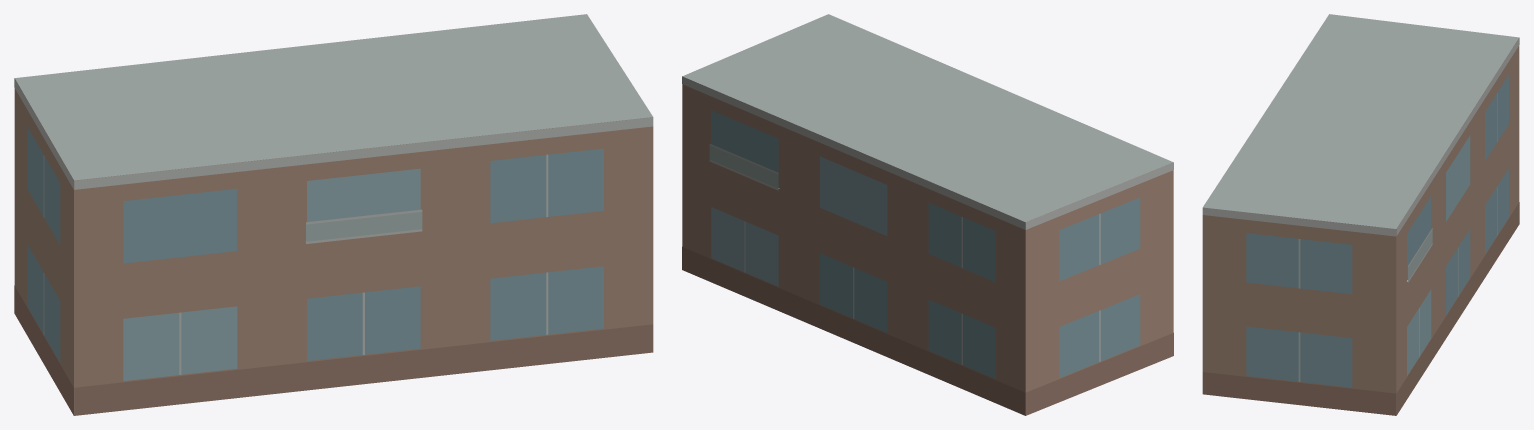
The model's file is survey-upis-32909255.glb.
The picture shows the model from 3 angles, left to right: view 1: azimuth 30°, elevation 25°; view 2: azimuth 150°, elevation 25°; view 3: azimuth 270°, elevation 25°; orthographic projection. The views are drawn at different scales.
Visible parts, largest first — view 1: survey-upis-32909255.tmp; view 2: survey-upis-32909255.tmp; view 3: survey-upis-32909255.tmp.
Boxes of the visible parts, bbox=[...] form: survey-upis-32909255.tmp: bbox=[14, 14, 653, 415]; survey-upis-32909255.tmp: bbox=[682, 14, 1173, 415]; survey-upis-32909255.tmp: bbox=[1202, 14, 1519, 415].
Size of the model in its own units: 15.07 by 6.1 by 9.39.
